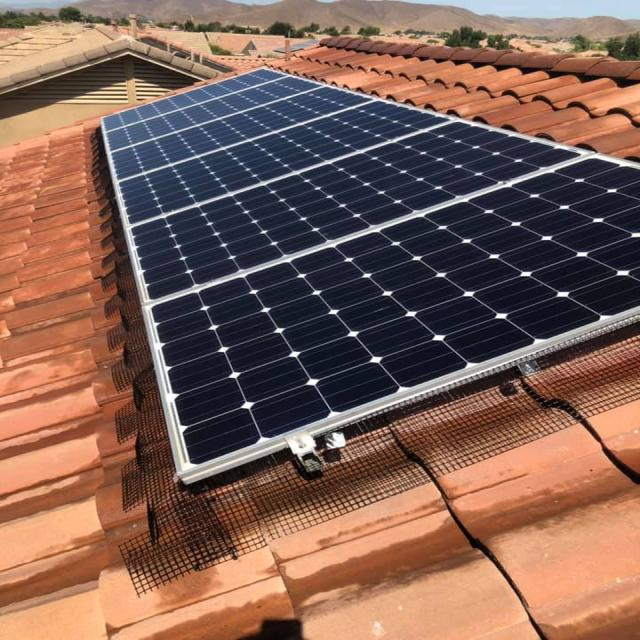clean-solar-panel: (102, 70, 638, 484)
